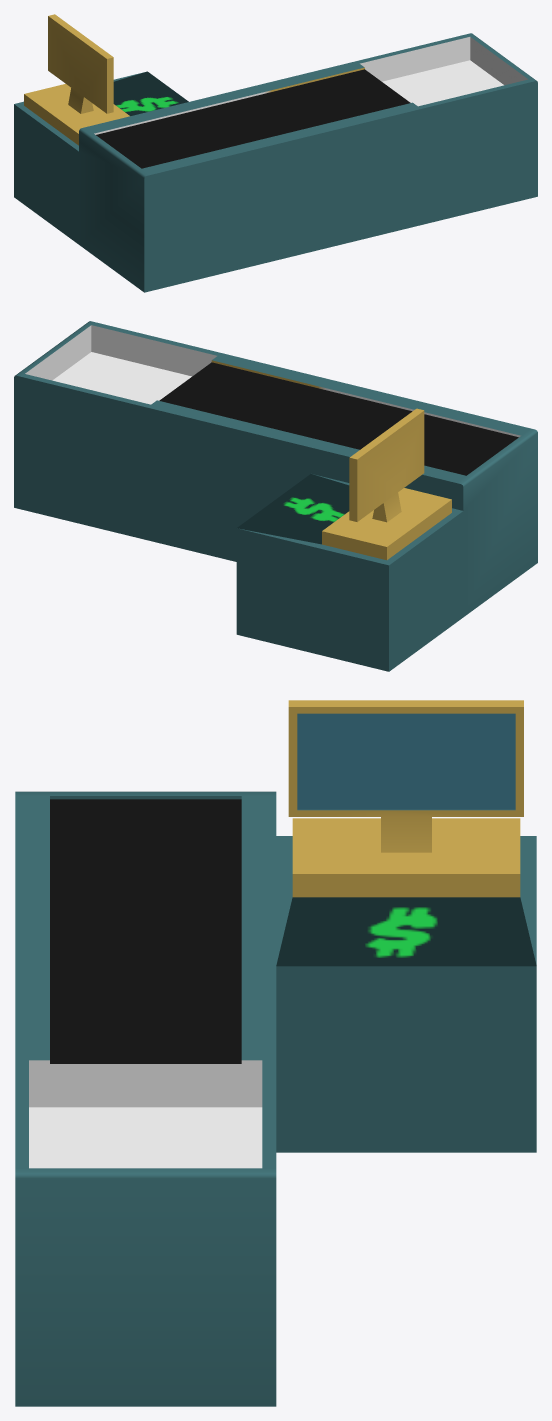
The model's file is CassaCheckOut.fbx.
The picture shows the model from 3 angles, top to bottom: view 1: azimuth 30°, elevation 25°; view 2: azimuth 150°, elevation 25°; view 3: azimuth 270°, elevation 25°; orthographic projection. The views are drawn at different scales.
Parts seen in each view (by area): view 1: CassaCheckOut.001; view 2: CassaCheckOut.001; view 3: CassaCheckOut.001.
Part boxes in pixels (left/top/right/bottom): CassaCheckOut.001: left=14, top=14, right=537, bottom=292; CassaCheckOut.001: left=14, top=321, right=537, bottom=671; CassaCheckOut.001: left=15, top=700, right=536, bottom=1406.
Bounding box in the file's own units: 466 × 199 × 267.
